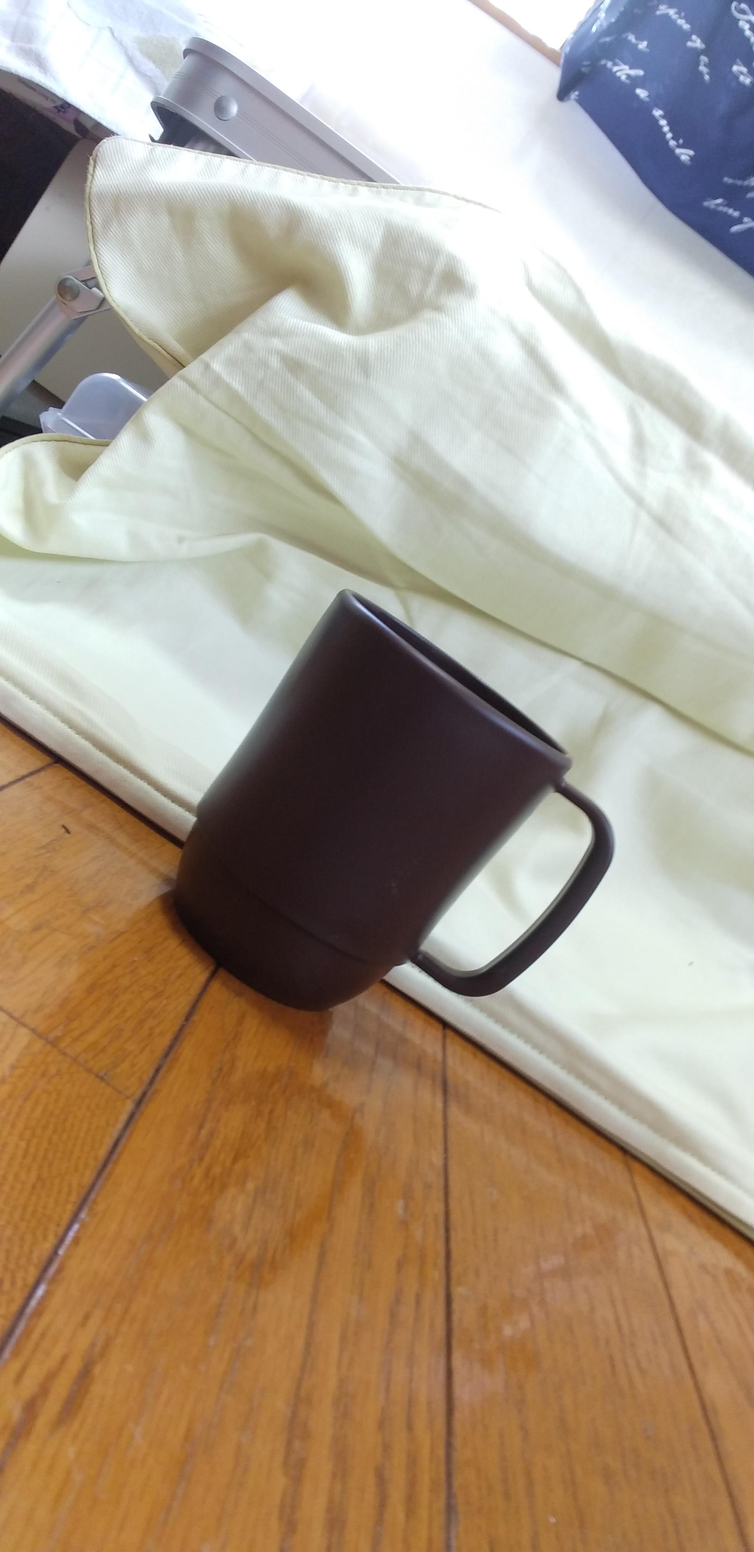mug-real100-3d100: (175, 591, 613, 1010)
